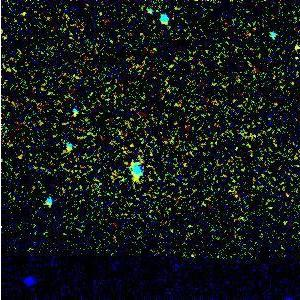star: (122, 162, 152, 192)
